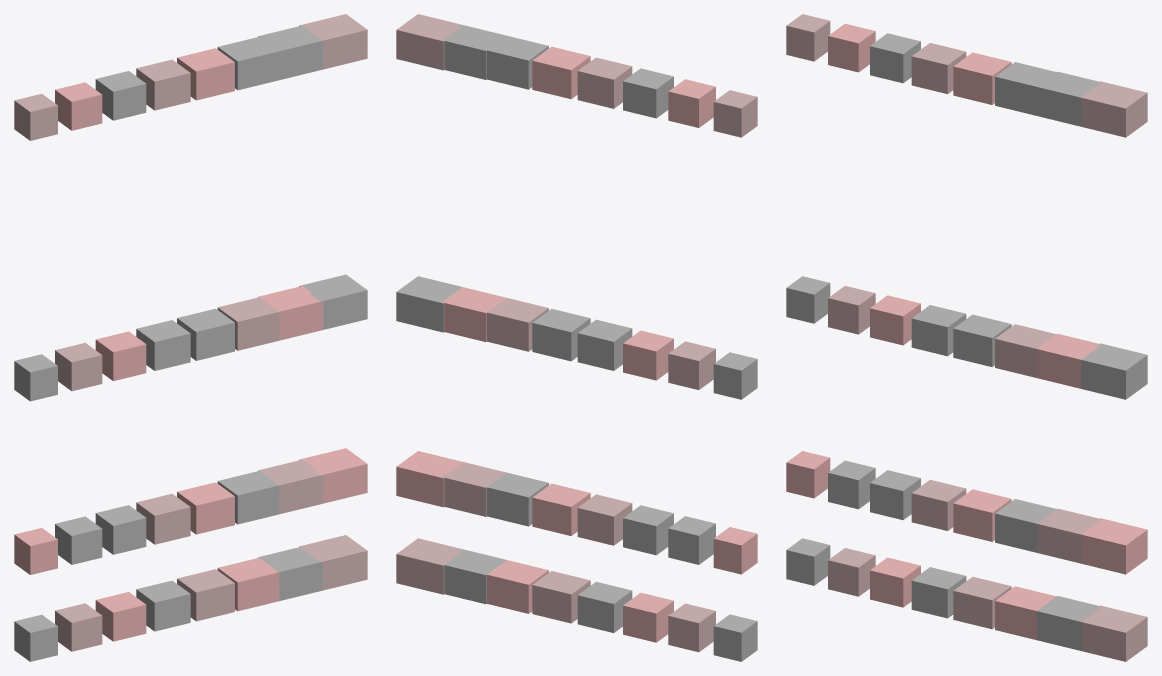
Rendered from foreign.glb.
3 renders of one model, left to right at view 1: azimuth 30°, elevation 25°; view 2: azimuth 150°, elevation 25°; view 3: azimuth 330°, elevation 25°, orthographic.
Parts seen in each view (by area): view 1: Obj_0_7, Obj_2_7, Obj_1_7, Obj_3_7, Obj_3_6, Obj_1_6, Obj_2_6, Obj_1_5, Obj_2_5, Obj_0_5, Obj_3_5, Obj_0_6 (+20 smaller); view 2: Obj_0_7, Obj_1_7, Obj_3_7, Obj_2_7, Obj_1_5, Obj_2_5, Obj_0_5, Obj_3_5, Obj_2_6, Obj_3_6, Obj_1_6, Obj_1_4 (+20 smaller); view 3: Obj_3_7, Obj_2_7, Obj_1_7, Obj_0_7, Obj_0_6, Obj_1_6, Obj_2_6, Obj_3_6, Obj_0_5, Obj_1_5, Obj_2_5, Obj_3_5 (+20 smaller).
Boxes of the visible parts, left/top/right/bottom form: Obj_0_7: left=299, top=535, right=367, bottom=590; Obj_2_7: left=299, top=274, right=367, bottom=330; Obj_1_7: left=299, top=448, right=367, bottom=503; Obj_3_7: left=299, top=14, right=367, bottom=69; Obj_3_6: left=258, top=25, right=323, bottom=79; Obj_1_6: left=258, top=459, right=323, bottom=514; Obj_2_6: left=258, top=286, right=323, bottom=340; Obj_1_5: left=217, top=471, right=279, bottom=524; Obj_2_5: left=217, top=297, right=279, bottom=350; Obj_0_5: left=217, top=558, right=279, bottom=611; Obj_3_5: left=217, top=37, right=279, bottom=90; Obj_0_6: left=258, top=547, right=323, bottom=600; Obj_0_7: left=396, top=538, right=463, bottom=594; Obj_1_7: left=396, top=451, right=464, bottom=507; Obj_3_7: left=396, top=14, right=462, bottom=70; Obj_2_7: left=396, top=276, right=463, bottom=332; Obj_1_5: left=487, top=472, right=548, bottom=526; Obj_2_5: left=487, top=298, right=548, bottom=351; Obj_0_5: left=487, top=560, right=548, bottom=613; Obj_3_5: left=487, top=35, right=548, bottom=89; Obj_2_6: left=442, top=287, right=506, bottom=341; Obj_3_6: left=443, top=25, right=506, bottom=79; Obj_1_6: left=442, top=462, right=506, bottom=516; Obj_1_4: left=532, top=483, right=590, bottom=535; Obj_3_7: left=1078, top=81, right=1147, bottom=137; Obj_2_7: left=1078, top=343, right=1147, bottom=399; Obj_1_7: left=1081, top=518, right=1147, bottom=574; Obj_0_7: left=1081, top=605, right=1147, bottom=661; Obj_0_6: left=1037, top=596, right=1101, bottom=650; Obj_1_6: left=1037, top=508, right=1101, bottom=563; Obj_2_6: left=1037, top=334, right=1101, bottom=388; Obj_3_6: left=1037, top=71, right=1101, bottom=126; Obj_0_5: left=995, top=586, right=1056, bottom=640; Obj_1_5: left=995, top=499, right=1056, bottom=552; Obj_2_5: left=995, top=324, right=1056, bottom=377; Obj_3_5: left=995, top=62, right=1056, bottom=115.
Size of the model in its own units: 12.2 by 19 by 1.35.
